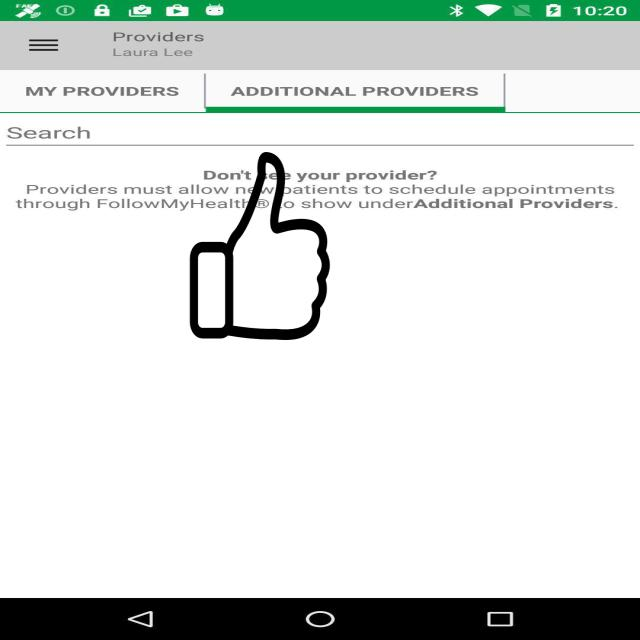privacy zuckering: (188, 152, 332, 340)
